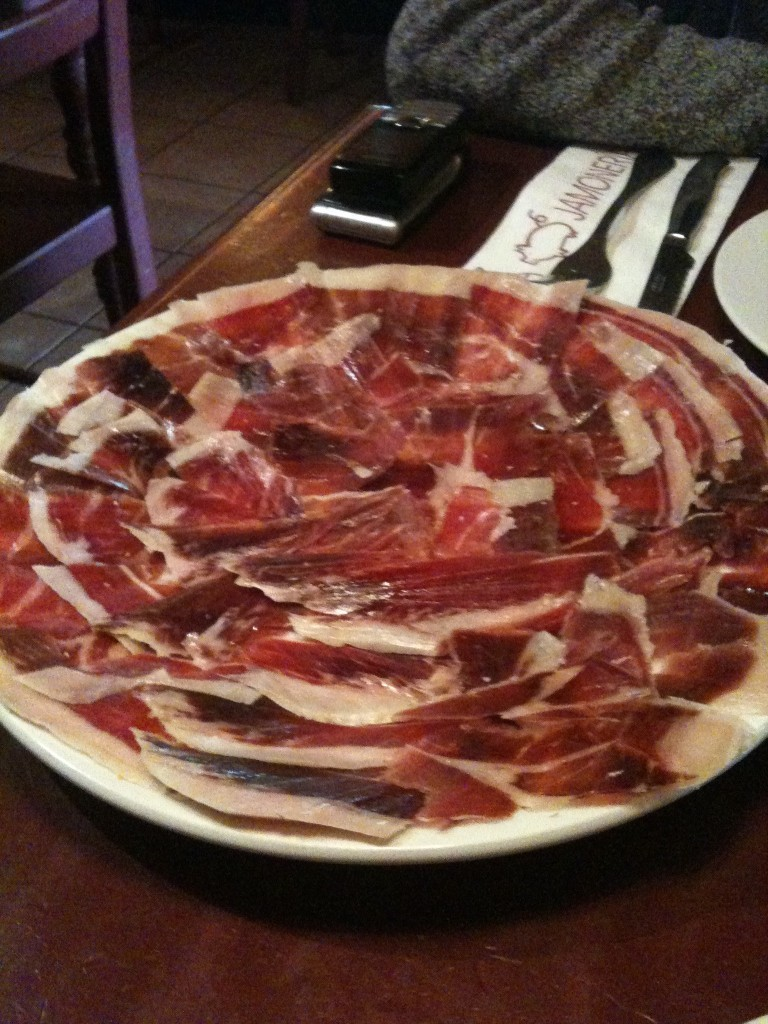Pizza: (0, 247, 767, 853)
